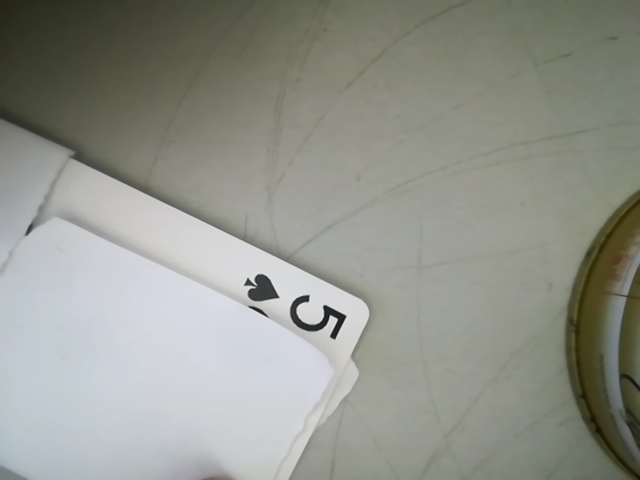ht 5: (231, 268, 359, 335)
